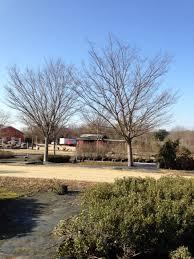tree: (75, 26, 182, 170), (2, 57, 87, 163)
